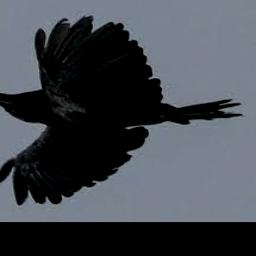Crow: (0, 15, 244, 205)
